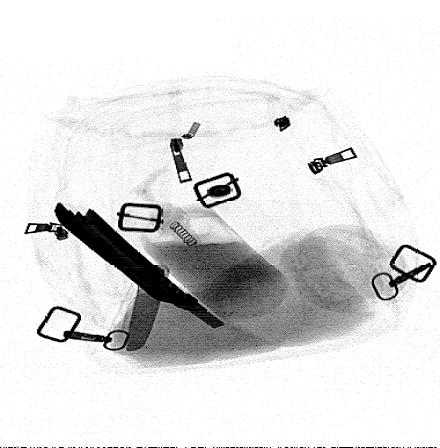Knife: (53, 201, 225, 329), (126, 264, 171, 352)
